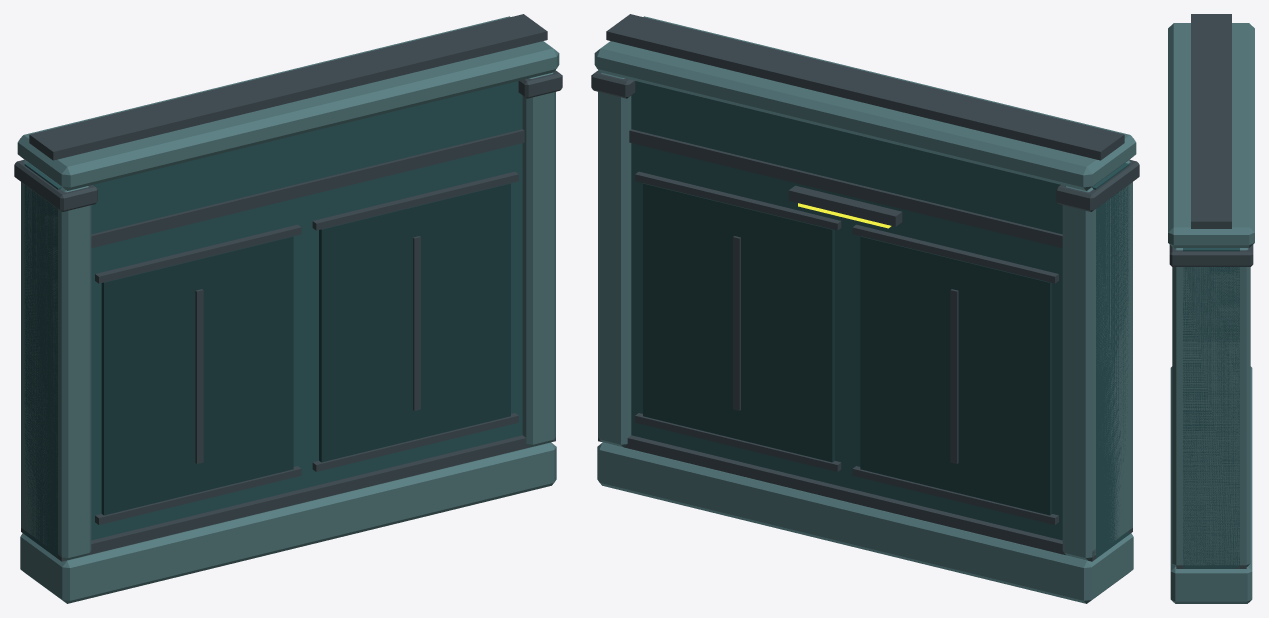
The model's file is Env_WallPanel.fbx.
3 renders of one model, left to right at view 1: azimuth 30°, elevation 25°; view 2: azimuth 150°, elevation 25°; view 3: azimuth 270°, elevation 25°, orthographic. The views are drawn at different scales.
Visible parts, largest first — view 1: Env_WallPanel; view 2: Env_WallPanel; view 3: Env_WallPanel.
Part boxes in pixels (left/top/right/bottom): Env_WallPanel: left=14, top=14, right=562, bottom=603; Env_WallPanel: left=591, top=14, right=1139, bottom=603; Env_WallPanel: left=1168, top=14, right=1254, bottom=603.
Bounding box in the file's own units: 6.1 × 1.06 × 5.18.
